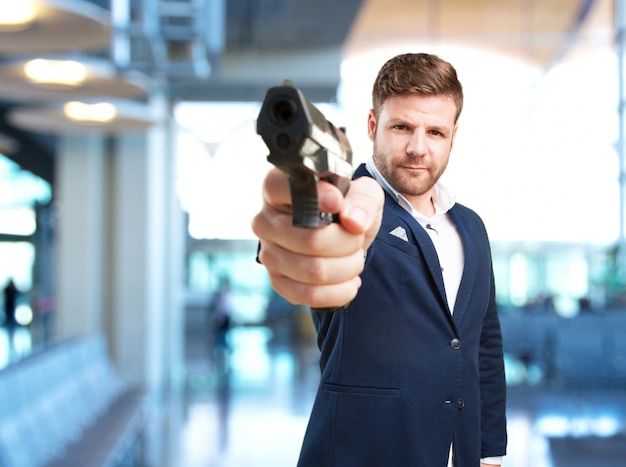gun: (250, 75, 354, 232)
